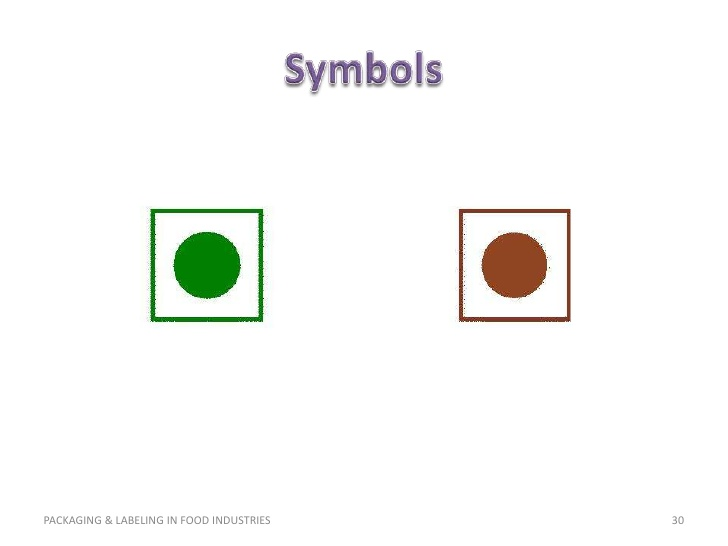NON-VEG: (457, 206, 572, 325)
VEG: (148, 205, 267, 324)
